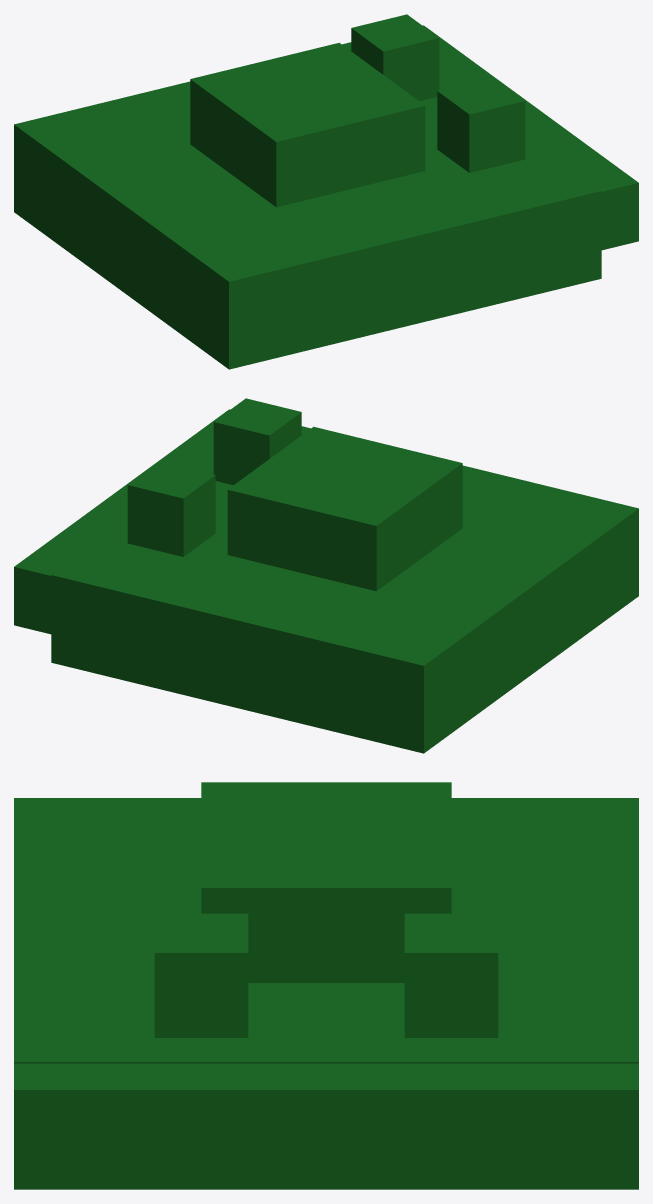
The model's file is imu.dae.
3 views of the same model, one above another, from view 1: azimuth 30°, elevation 25°; view 2: azimuth 150°, elevation 25°; view 3: azimuth 270°, elevation 25° (orthographic). The views are drawn at different scales.
Visible parts, largest first — view 1: Node; view 2: Node; view 3: Node.
Boxes of the visible parts, x1,y1,x2,y2 form: Node: (14,14,638,369); Node: (14,398,638,753); Node: (14,782,638,1189).
Bounding box in the file's own units: 0.022 × 0.02 × 0.00785.
